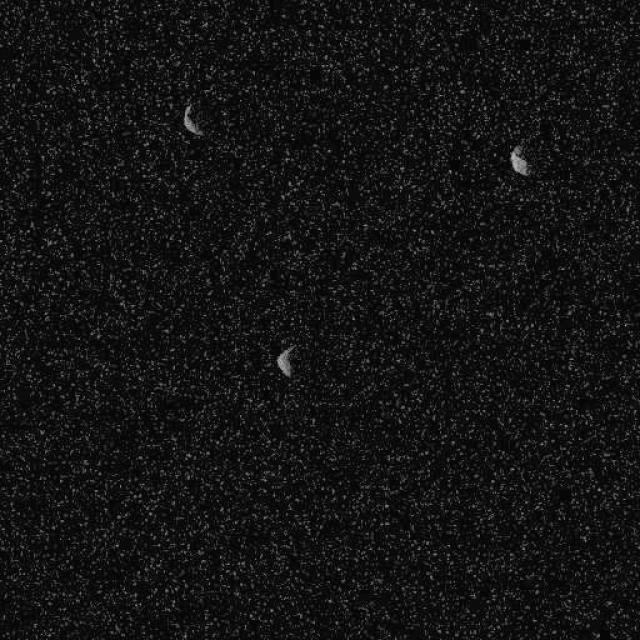D2: (181, 102, 205, 136), (274, 343, 295, 378), (509, 144, 531, 176)
